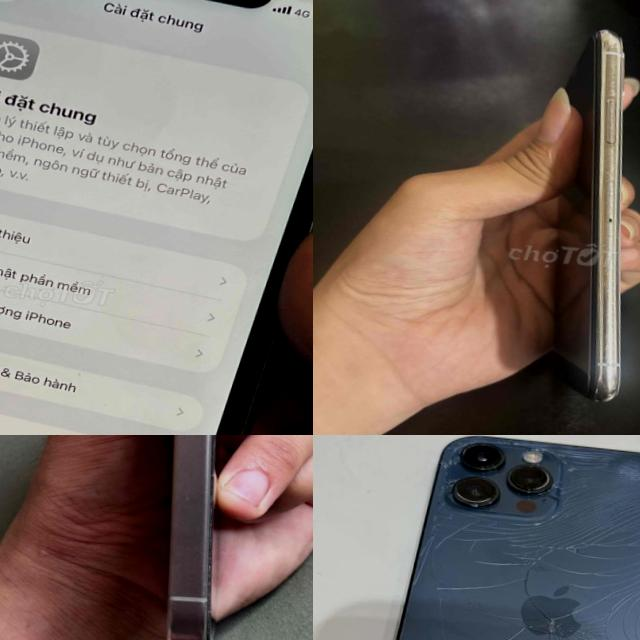physical_damage: (438, 581, 623, 640), (531, 533, 640, 599), (428, 514, 526, 572), (577, 490, 640, 539), (585, 441, 640, 490), (502, 438, 584, 463), (431, 436, 460, 500)
scratch: (564, 37, 640, 400)
